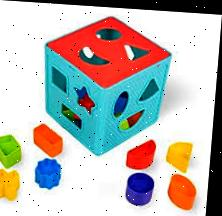cube: (43, 13, 173, 156)
